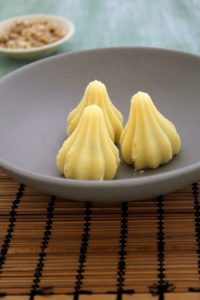modak: (59, 104, 120, 182), (122, 90, 181, 165), (67, 78, 128, 140)
